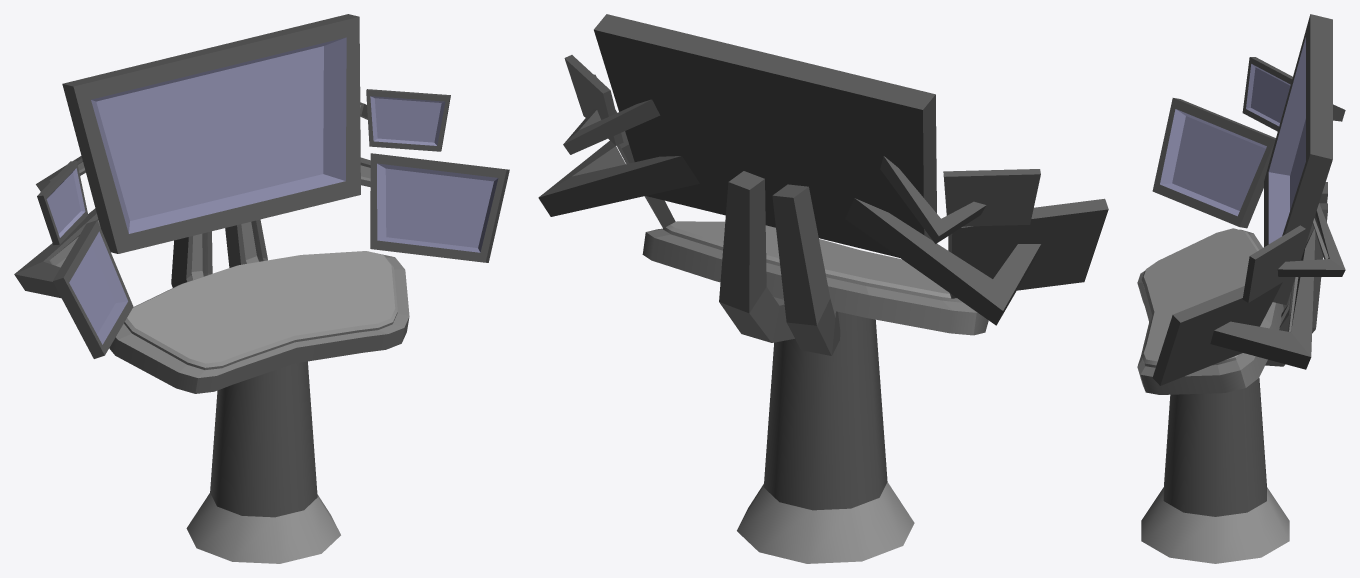
The model's file is Ordianteur.fbx.
3 views of the same model, side by side, from view 1: azimuth 30°, elevation 25°; view 2: azimuth 150°, elevation 25°; view 3: azimuth 270°, elevation 25° (orthographic). The views are drawn at different scales.
Parts seen in each view (by area): view 1: Ordianteur; view 2: Ordianteur; view 3: Ordianteur.
Boxes of the visible parts, left/top/right/bottom form: Ordianteur: left=14, top=14, right=509, bottom=563; Ordianteur: left=538, top=14, right=1108, bottom=563; Ordianteur: left=1137, top=14, right=1345, bottom=563.
Bounding box in the file's own units: 175 × 163 × 68.74.
